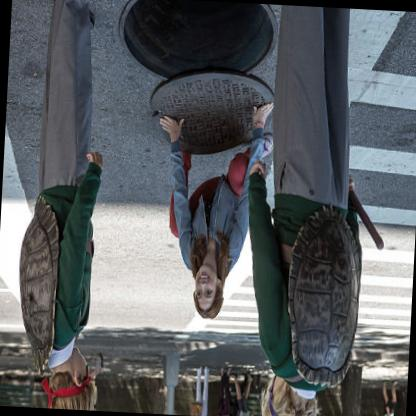manholes: (97, 0, 315, 205)
